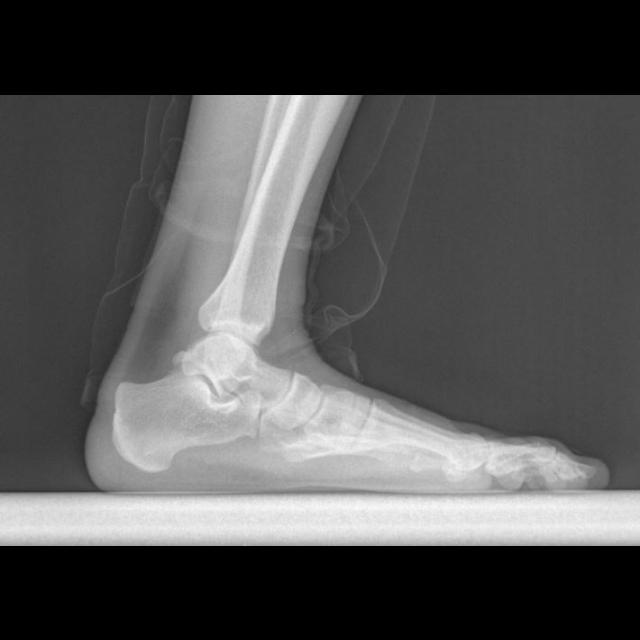a: (113, 360, 264, 472)
b: (266, 371, 322, 431)
c: (350, 398, 490, 470)
